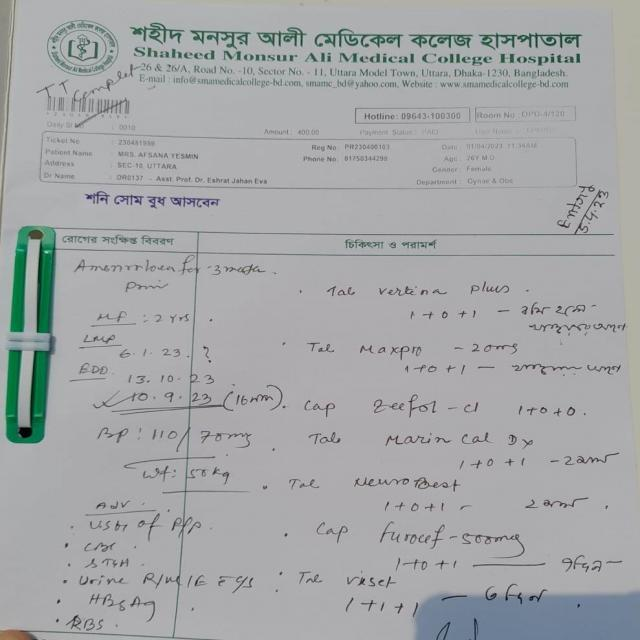Furocef: (368, 514, 450, 550)
MarinCal-DX: (378, 428, 536, 452)
Maxpro: (350, 333, 434, 360)
Neurobest: (344, 468, 463, 497)
Vertina Plus: (374, 274, 515, 305)
Viset: (337, 570, 400, 594)
Zeefol-CI: (362, 390, 483, 419)
